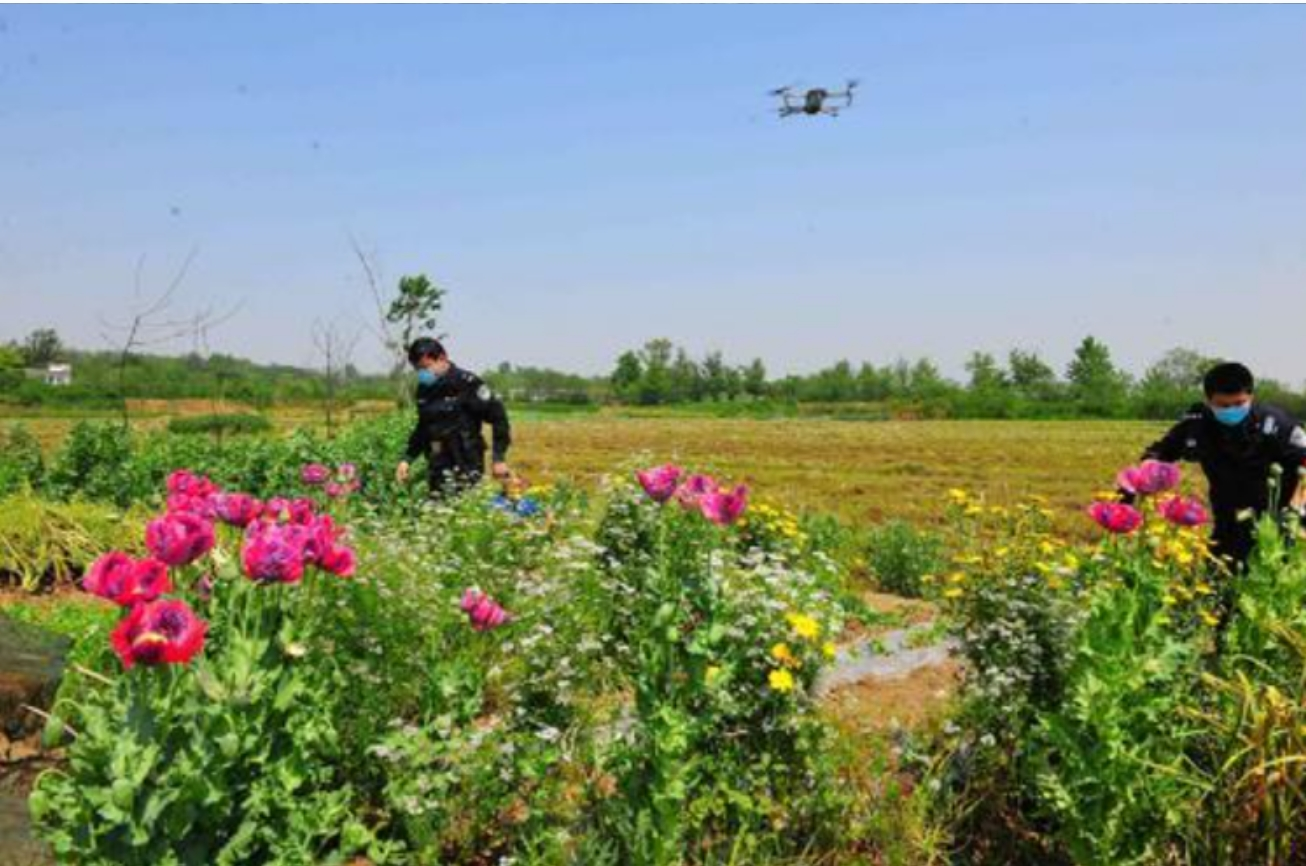Poppy: (31, 446, 395, 847), (593, 443, 755, 859), (1062, 448, 1209, 852), (397, 572, 560, 837), (1227, 455, 1306, 683)
